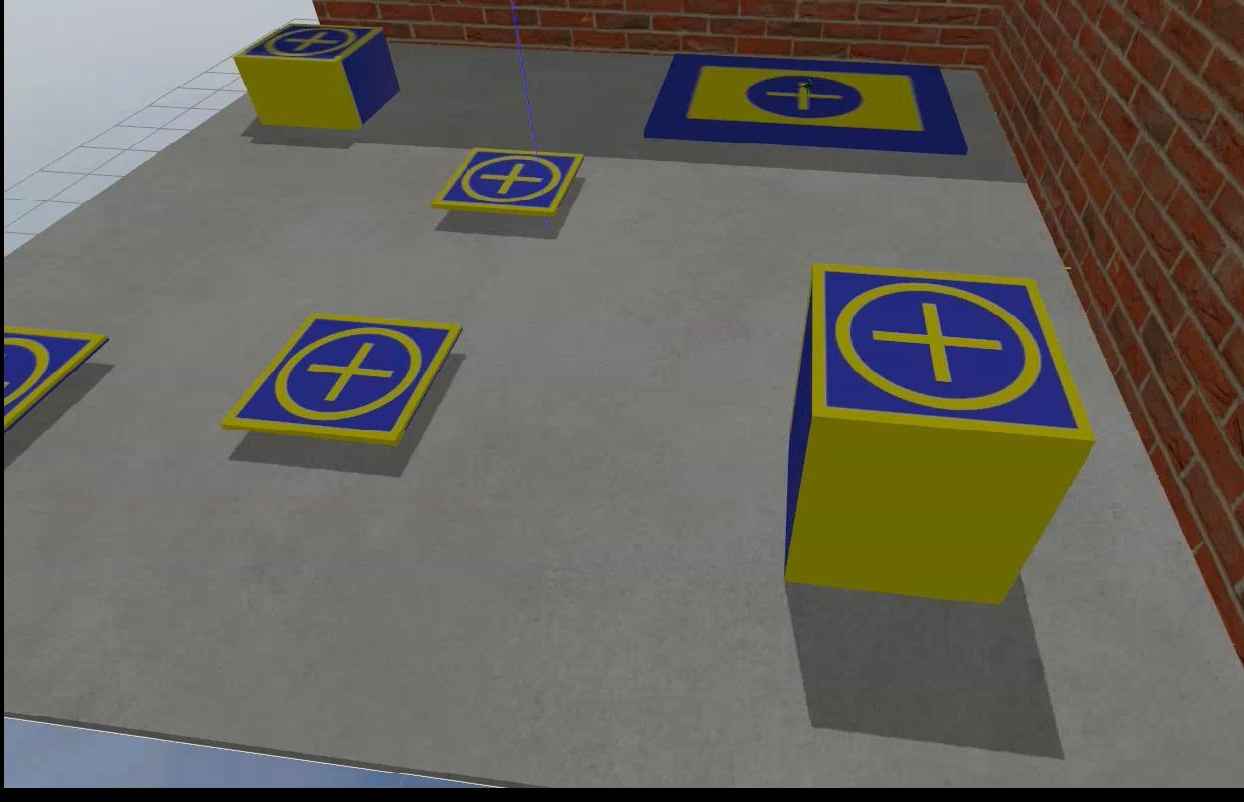large_base: (639, 56, 968, 157)
small_base: (810, 261, 1098, 444), (216, 317, 458, 444), (0, 328, 110, 432), (431, 149, 582, 216), (232, 21, 387, 67)
